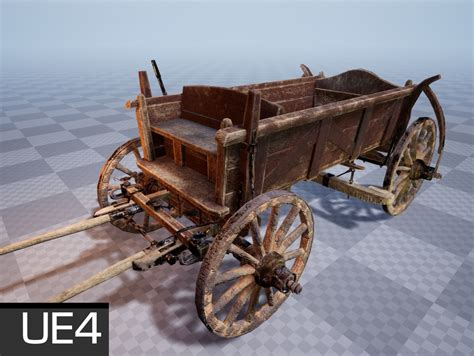Carts: (96, 59, 447, 338)
